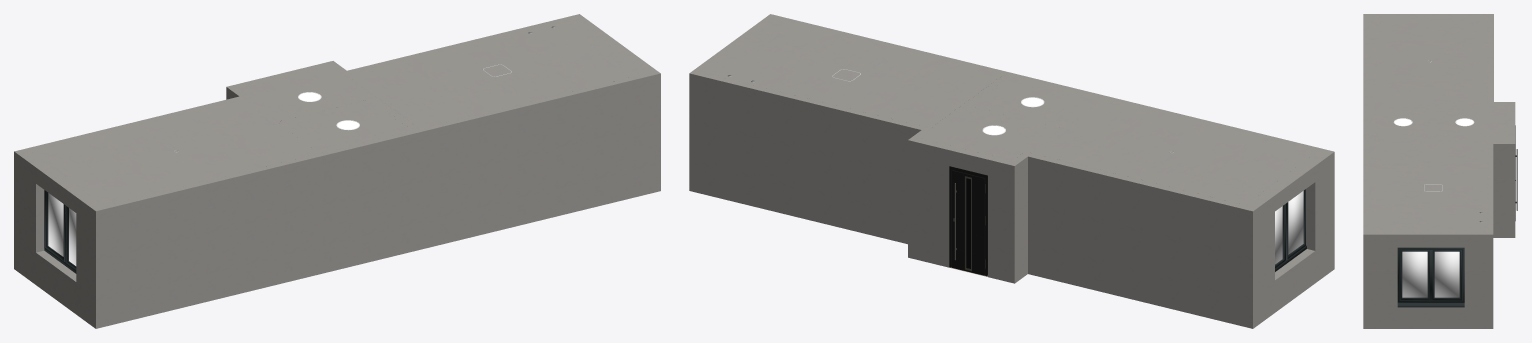
Rendered from apt-1room-2.glb.
The picture shows the model from 3 angles, left to right: view 1: azimuth 30°, elevation 25°; view 2: azimuth 150°, elevation 25°; view 3: azimuth 270°, elevation 25°; orthographic projection. The views are drawn at different scales.
Visible parts, largest first — view 1: Walls, Ceiling, window.001; view 2: Walls, Ceiling, modern door, window.001; view 3: Ceiling, Walls, window, modern door, lamp_ceiling_2, lamp_ceiling_3.
Boxes of the visible parts, box(x1,y1,x2,y2) form: Walls: box(14, 14, 660, 328); Ceiling: box(31, 22, 636, 205); window.001: box(44, 190, 76, 273); Walls: box(689, 14, 1334, 328); Ceiling: box(713, 21, 1317, 204); modern door: box(949, 166, 987, 276); window.001: box(1275, 189, 1306, 271); Ceiling: box(1369, 19, 1507, 226); Walls: box(1363, 14, 1515, 328); window: box(1397, 247, 1464, 307); modern door: box(1515, 125, 1517, 220); lamp_ceiling_2: box(1455, 118, 1474, 126); lamp_ceiling_3: box(1393, 118, 1412, 126).
Size of the model in its own units: 14.76 by 2.91 by 4.31.
38 materials, 13 textured.
